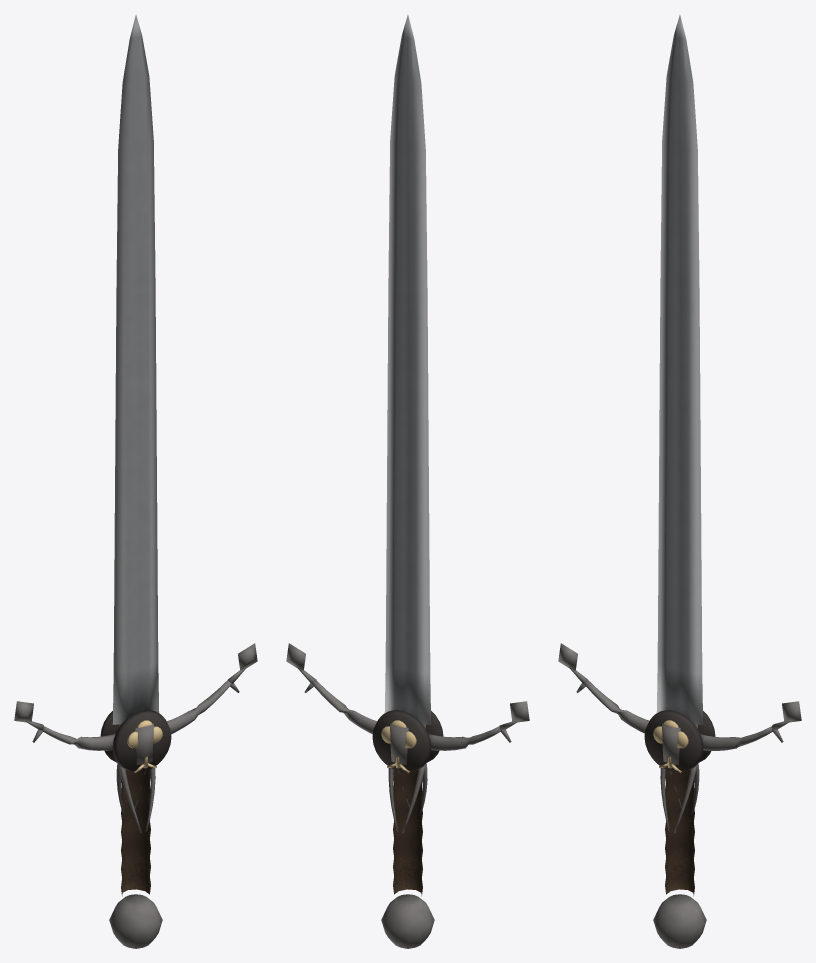
The model's file is wp_espada_longa_d.glb.
3 renders of one model, left to right at view 1: azimuth 30°, elevation 25°; view 2: azimuth 150°, elevation 25°; view 3: azimuth 330°, elevation 25°, orthographic.
Visible parts, largest first — view 1: wp_espada_longa_d; view 2: wp_espada_longa_d; view 3: wp_espada_longa_d.
Part boxes in pixels (x1,y1,x2,y2): wp_espada_longa_d: (14, 15, 257, 948); wp_espada_longa_d: (286, 15, 529, 948); wp_espada_longa_d: (558, 15, 801, 948).
Bounding box in the file's own units: 0.2728 × 1 × 0.052.
Materials: 1 (1 with a texture image).
